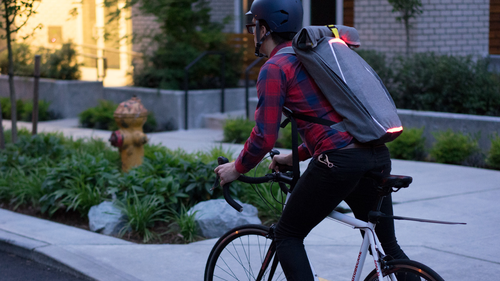bikerider: (187, 3, 451, 281)
